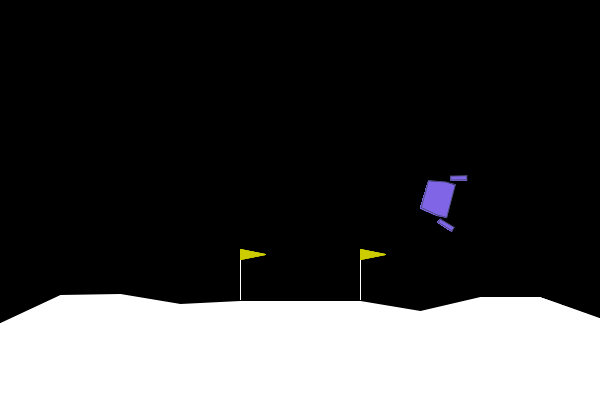lander: (415, 165, 469, 233)
